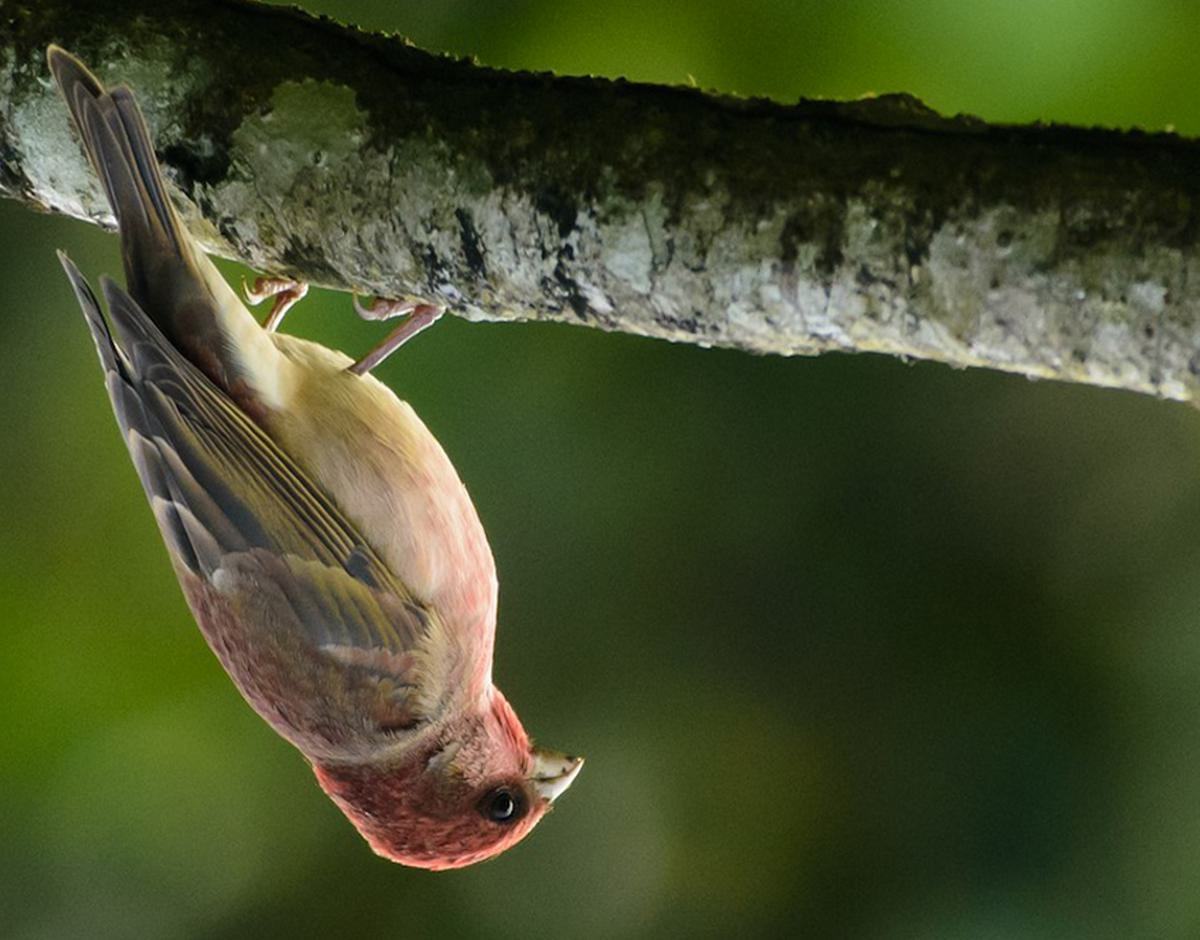rosefinch: (127, 129, 588, 884)
